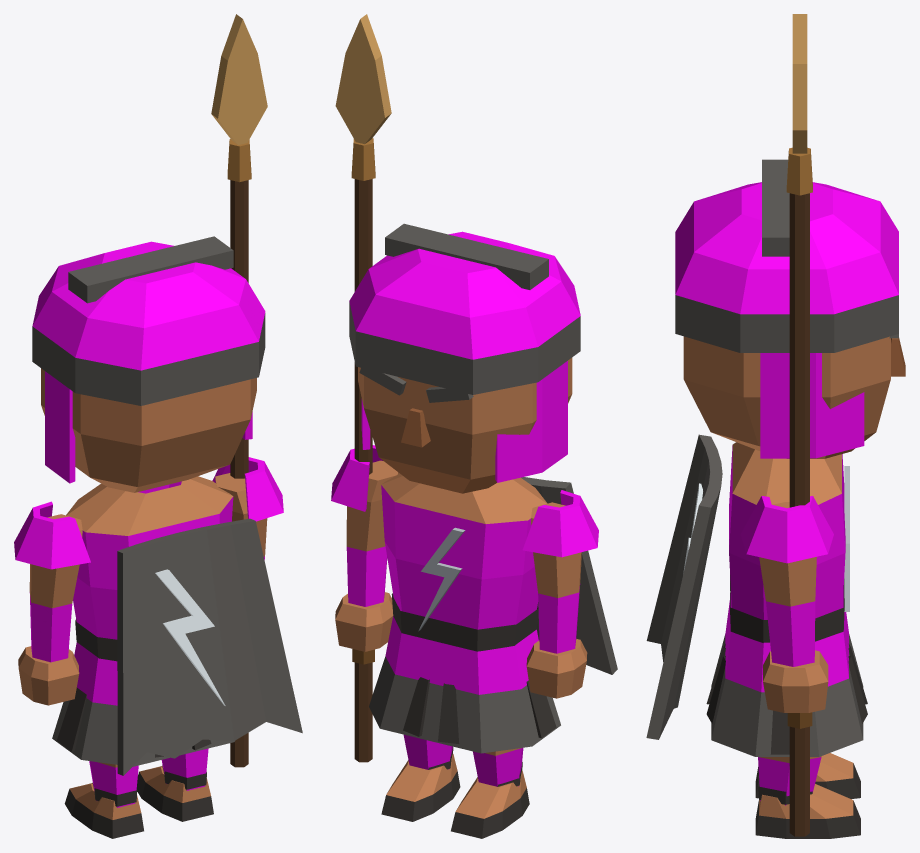
Rendered from CH_ThunderChampion_StormGrey.fbx.
3 renders of one model, left to right at view 1: azimuth 30°, elevation 25°; view 2: azimuth 150°, elevation 25°; view 3: azimuth 270°, elevation 25°, orthographic. The views are drawn at different scales.
Visible parts, largest first — view 1: Body, Head, ArmR, ArmL, LegL, LegR; view 2: Head, Body, ArmR, ArmL, LegL, LegR; view 3: Head, Body, ArmR, LegR, LegL.
Part boxes in pixels (x1,y1,x2,y2): Body: [52, 476, 302, 775]; Head: [32, 236, 265, 492]; ArmR: [211, 14, 283, 767]; ArmL: [14, 501, 90, 705]; LegL: [64, 761, 143, 838]; LegR: [136, 748, 213, 821]; Head: [349, 223, 580, 493]; Body: [369, 472, 617, 753]; ArmR: [331, 14, 398, 762]; ArmL: [522, 490, 598, 698]; LegL: [451, 748, 529, 838]; LegR: [381, 734, 460, 821]; Head: [675, 159, 905, 458]; Body: [646, 434, 867, 756]; ArmR: [740, 14, 833, 836]; LegR: [755, 756, 860, 838]; LegL: [755, 753, 860, 799].
Bounding box in the file's own units: 0.804 × 0.6165 × 2.22.
